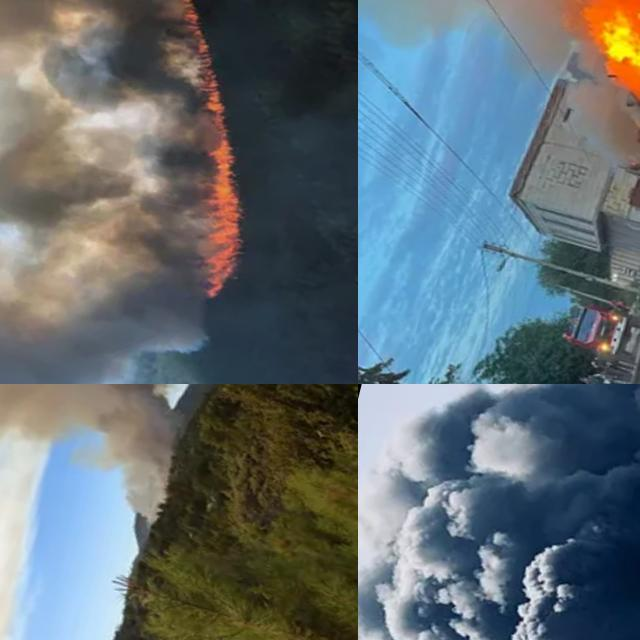smoke: (0, 0, 334, 384), (358, 384, 640, 640), (358, 0, 640, 118), (0, 384, 228, 529)
